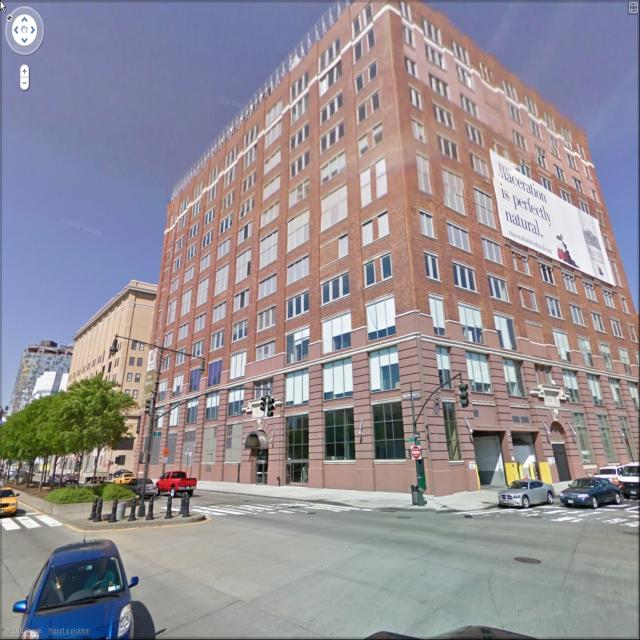b_1: (158, 8, 640, 496), (67, 289, 158, 383), (13, 338, 73, 397), (26, 374, 88, 408)
